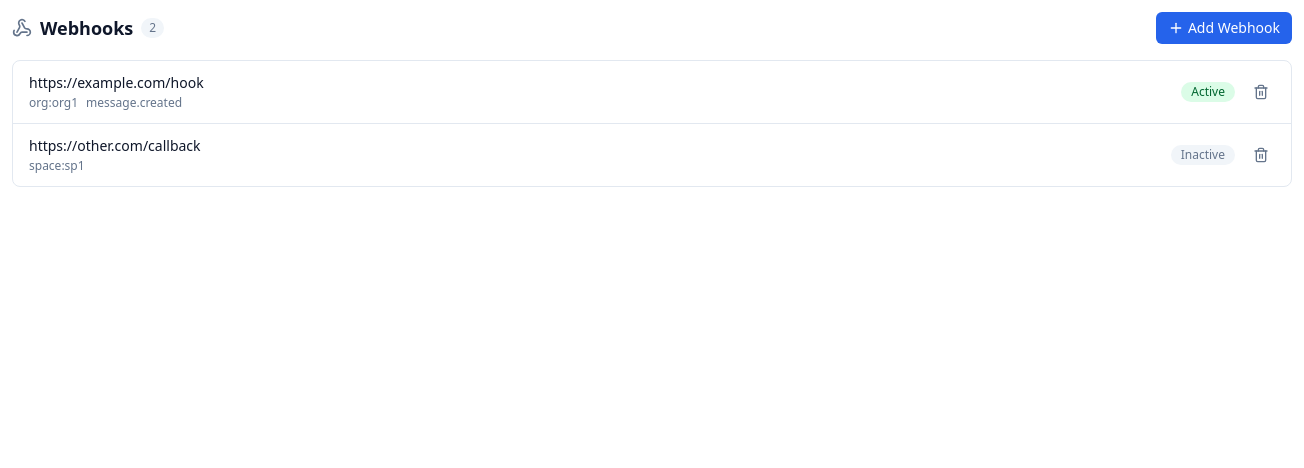
Test: WebhookManager › shows error for empty URL
Click the button with test id "webhook-create-toggle" at [1224, 28], box [1156,12,1292,44]
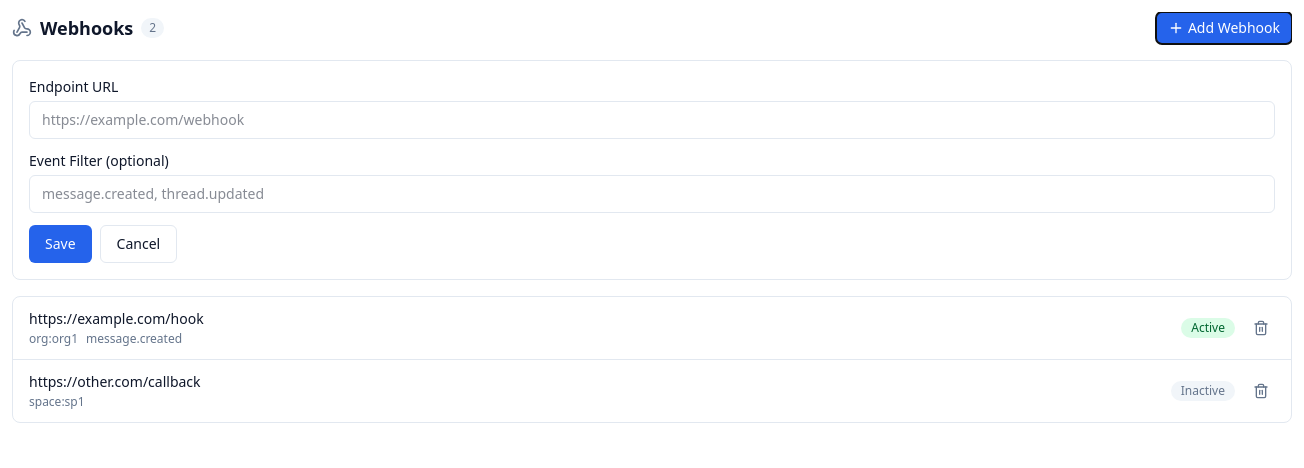
Click the button with test id "webhook-save-btn" at [60, 244], box [29,225,92,263]
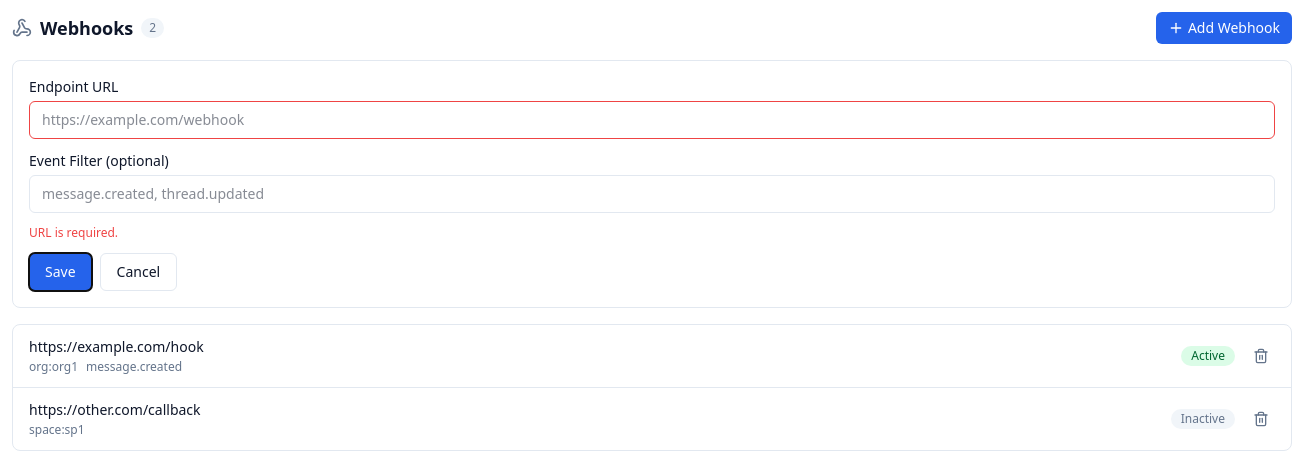
Expected: the text with test id "webhook-error" reads "URL is required.", [29,224,118,241]
